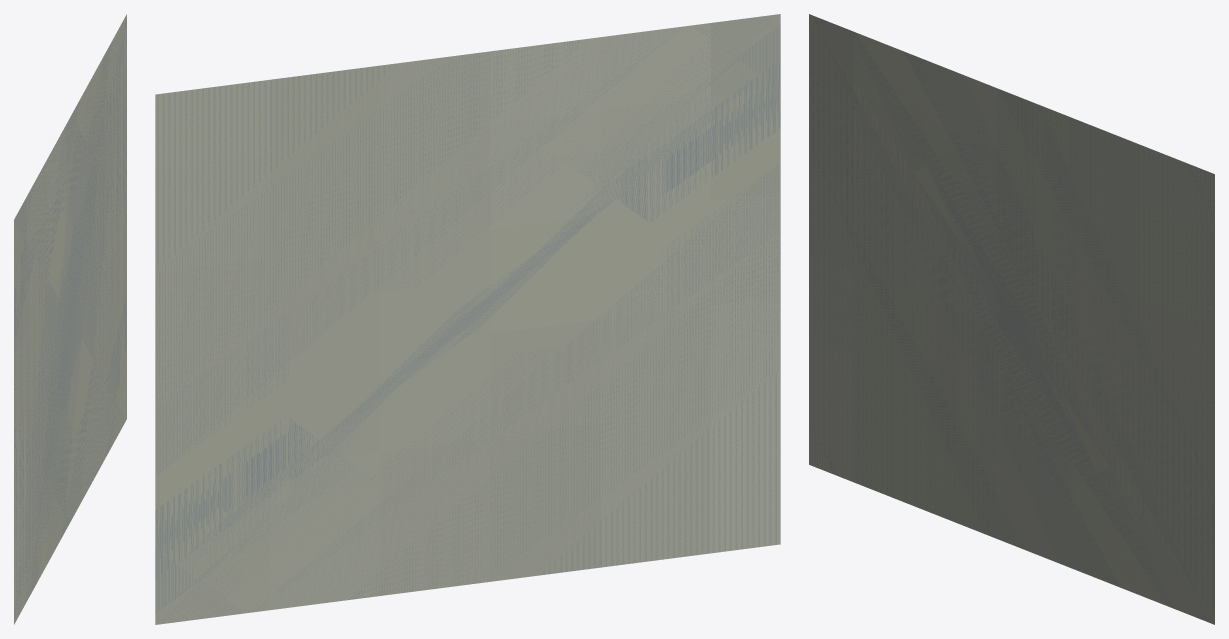
The model's file is 人民英雄纪念碑198.dae.
3 renders of one model, left to right at view 1: azimuth 30°, elevation 25°; view 2: azimuth 150°, elevation 25°; view 3: azimuth 270°, elevation 25°, orthographic. The views are drawn at different scales.
Visible parts, largest first — view 1: SketchUp; view 2: SketchUp; view 3: SketchUp.
Part boxes in pixels (x1,y1,x2,y2): SketchUp: [14, 14, 126, 624]; SketchUp: [155, 14, 780, 624]; SketchUp: [809, 14, 1214, 624].
Bounding box in the file's own units: 8.03 × 8.6 × 10.54.
